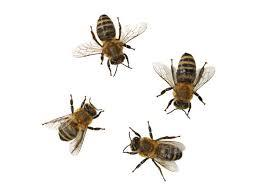Apis-mellifera-scutellata: (67, 10, 145, 76), (152, 40, 214, 122), (37, 91, 107, 156), (127, 120, 182, 183)
